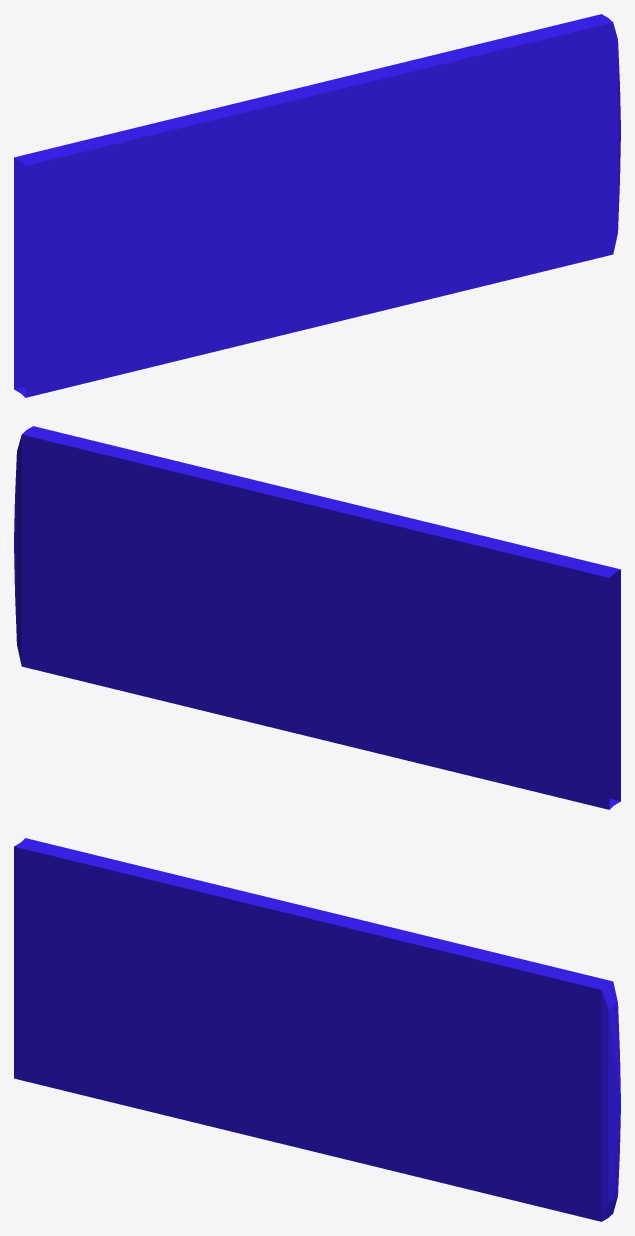
Rendered from Flag.fbx.
3 views of the same model, one above another, from view 1: azimuth 30°, elevation 25°; view 2: azimuth 150°, elevation 25°; view 3: azimuth 330°, elevation 25° (orthographic).
Parts seen in each view (by area): view 1: Blue flag.001; view 2: Blue flag.001; view 3: Blue flag.001.
Part boxes in pixels (x1,y1,x2,y2): Blue flag.001: (14,14,620,397); Blue flag.001: (14,426,620,809); Blue flag.001: (14,838,620,1221).
Size of the model in its own units: 1171 by 432 by 39.02.
